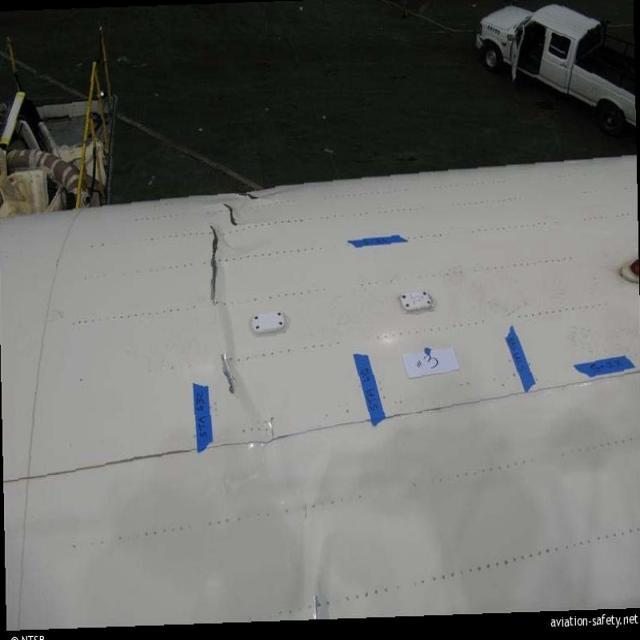crack: (203, 225, 223, 306), (216, 352, 238, 396), (221, 198, 241, 230)
